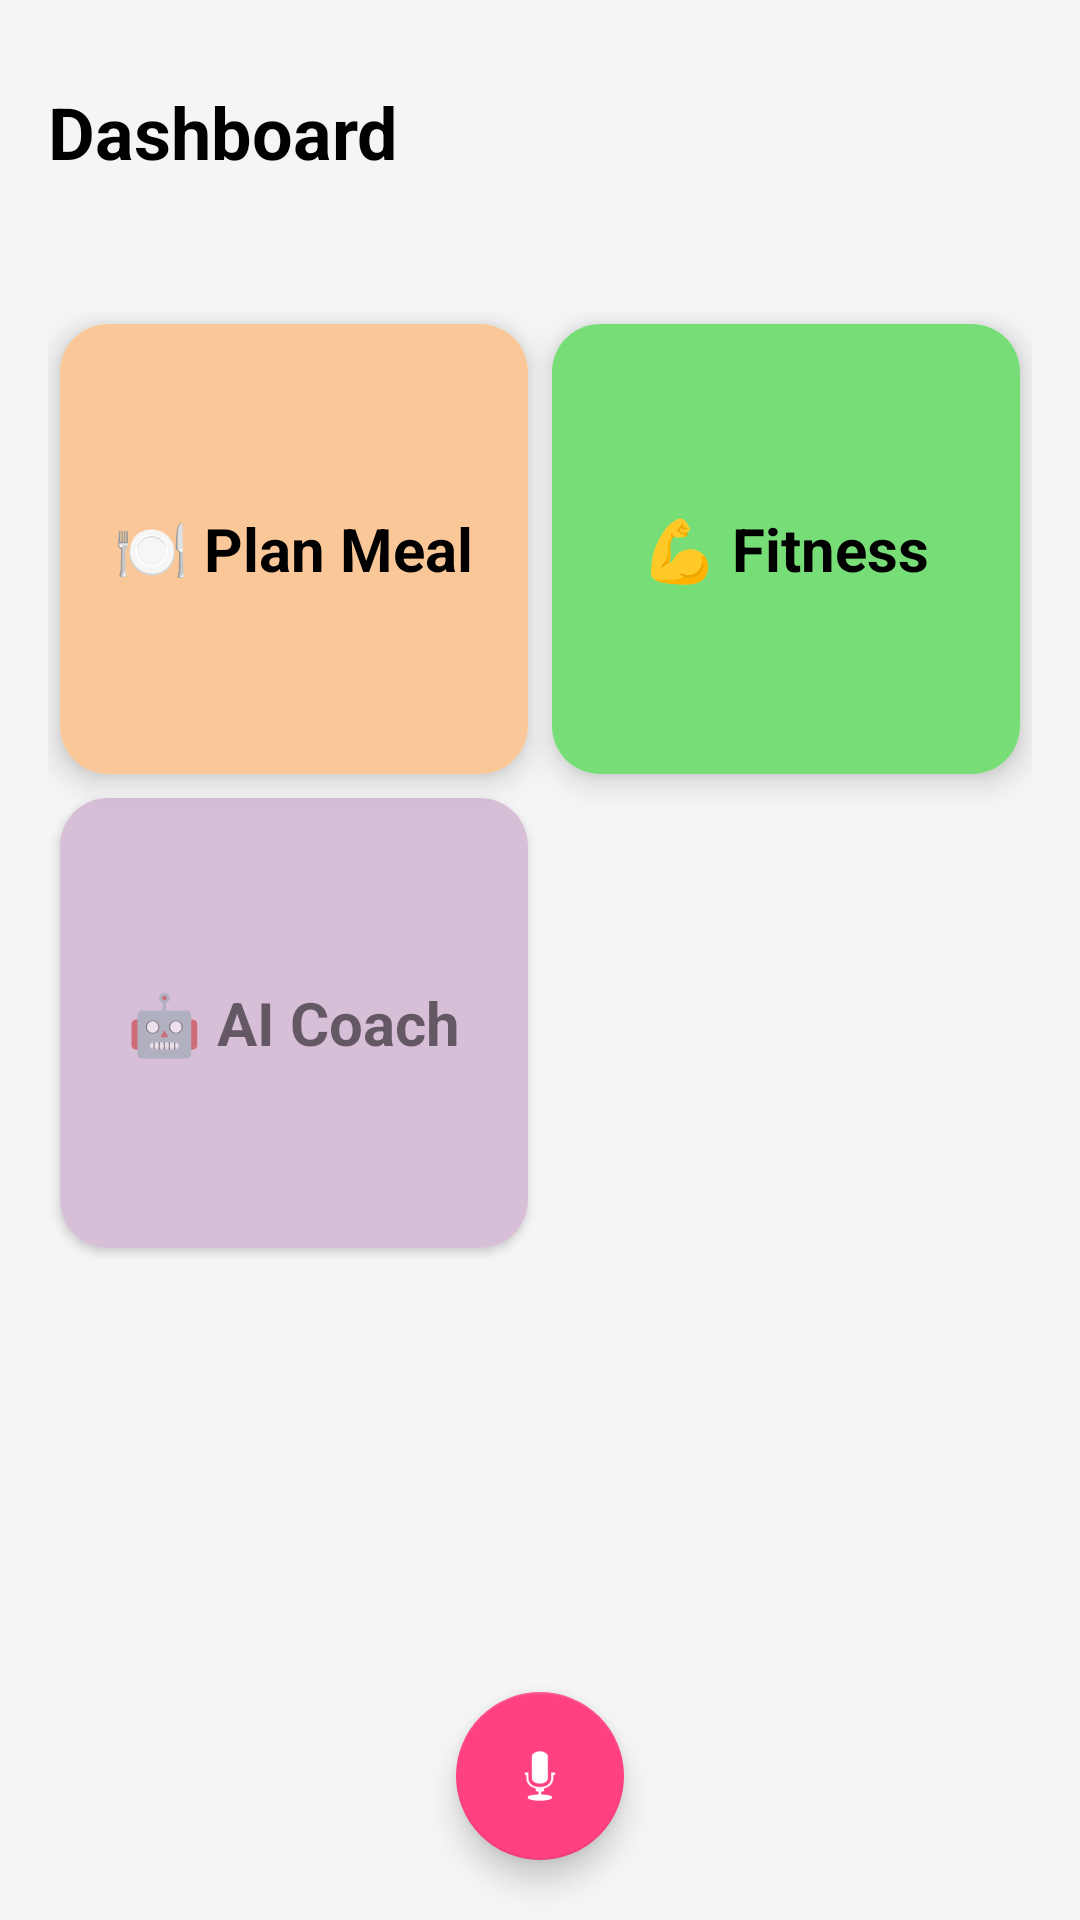

Icon click points for this 1080 × 1920 phone screenshot, format [x,y]:
speak now: [540,1776]
